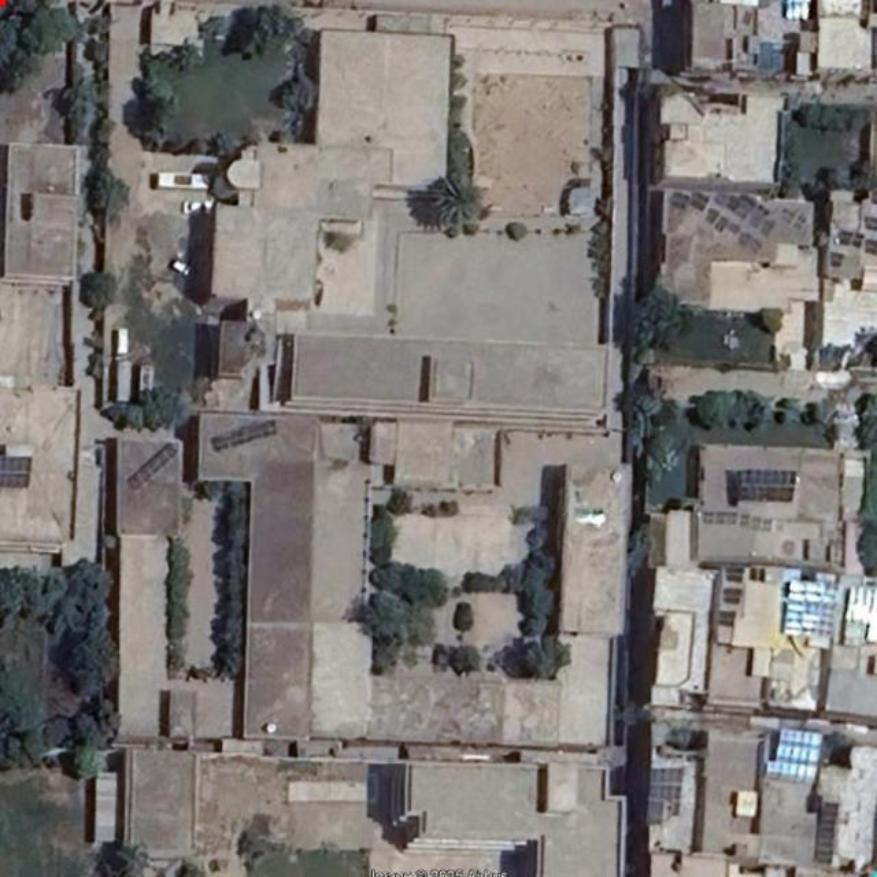Solarpanel: (786, 579, 841, 638), (765, 728, 822, 775), (211, 417, 276, 451), (128, 444, 175, 489), (737, 468, 795, 502), (645, 769, 682, 813), (0, 459, 29, 490)
